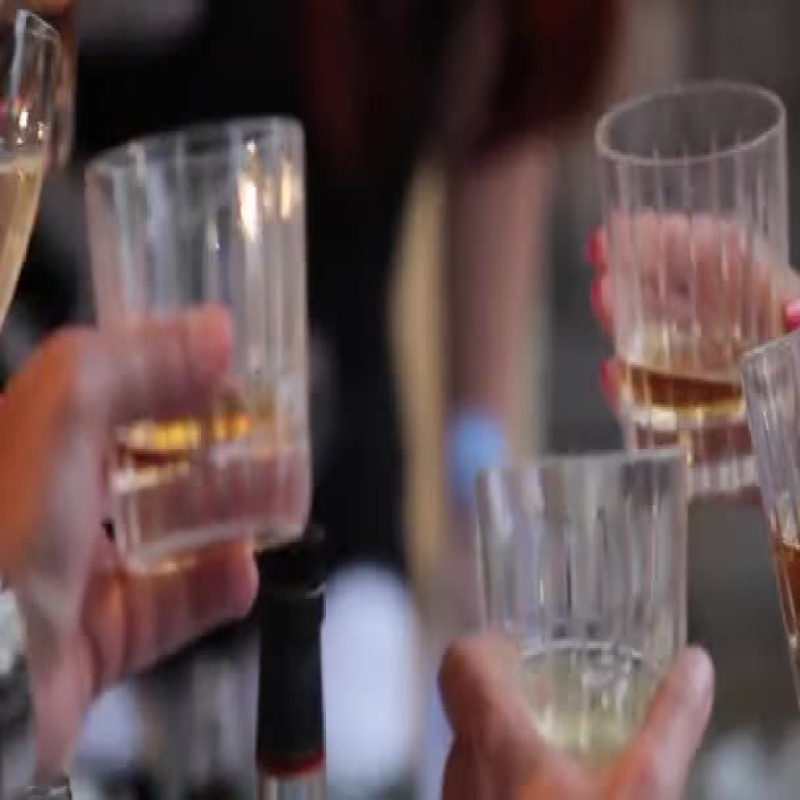whiskey: (112, 102, 310, 548), (593, 87, 778, 481)
